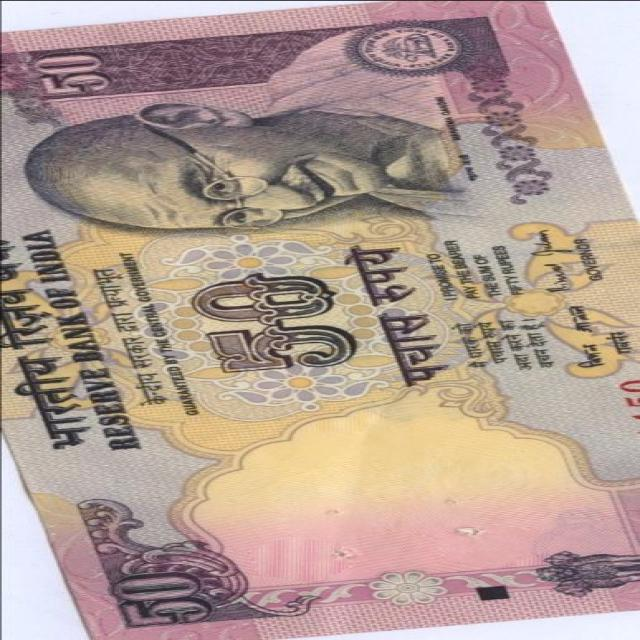50IndianRupees: (10, 4, 640, 628)
